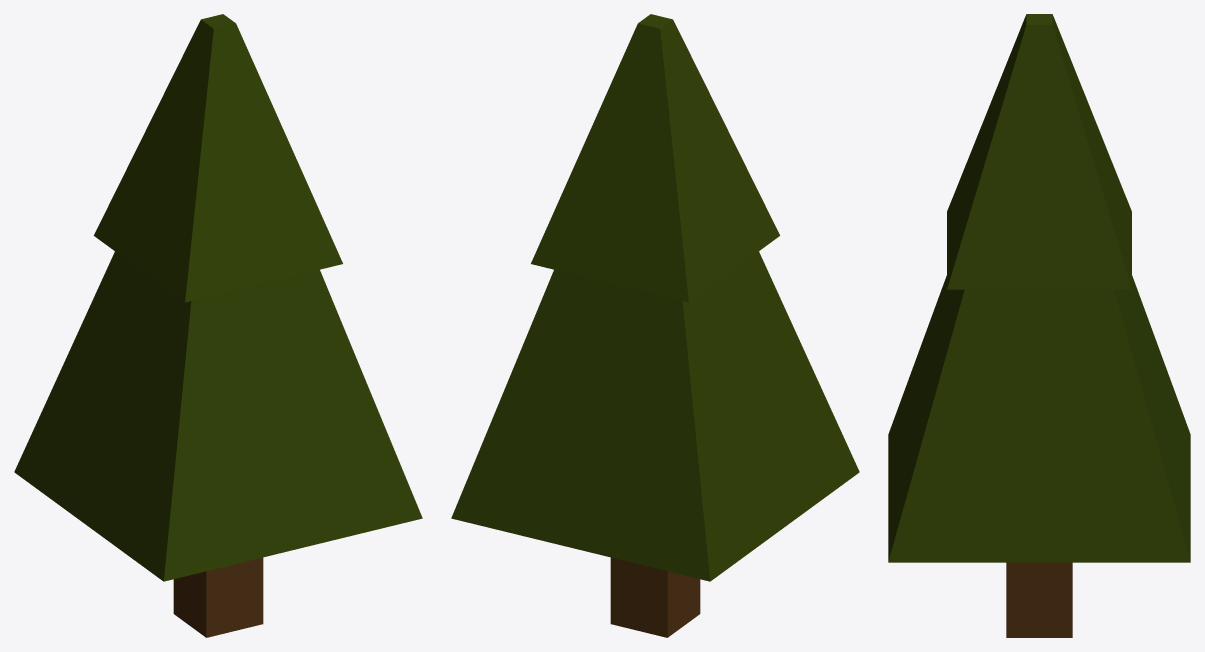
Rendered from ForestTreeSpruce_02.fbx.
The picture shows the model from 3 angles, left to right: view 1: azimuth 30°, elevation 25°; view 2: azimuth 150°, elevation 25°; view 3: azimuth 270°, elevation 25°; orthographic projection.
Parts seen in each view (by area): view 1: ForestTreeSpruce_02; view 2: ForestTreeSpruce_02; view 3: ForestTreeSpruce_02.
Boxes of the visible parts, <box> form: ForestTreeSpruce_02: <box>14,14,422,637</box>; ForestTreeSpruce_02: <box>451,14,859,637</box>; ForestTreeSpruce_02: <box>888,14,1190,637</box>.
Bounding box in the file's own units: 33.13 × 73.01 × 33.13.
